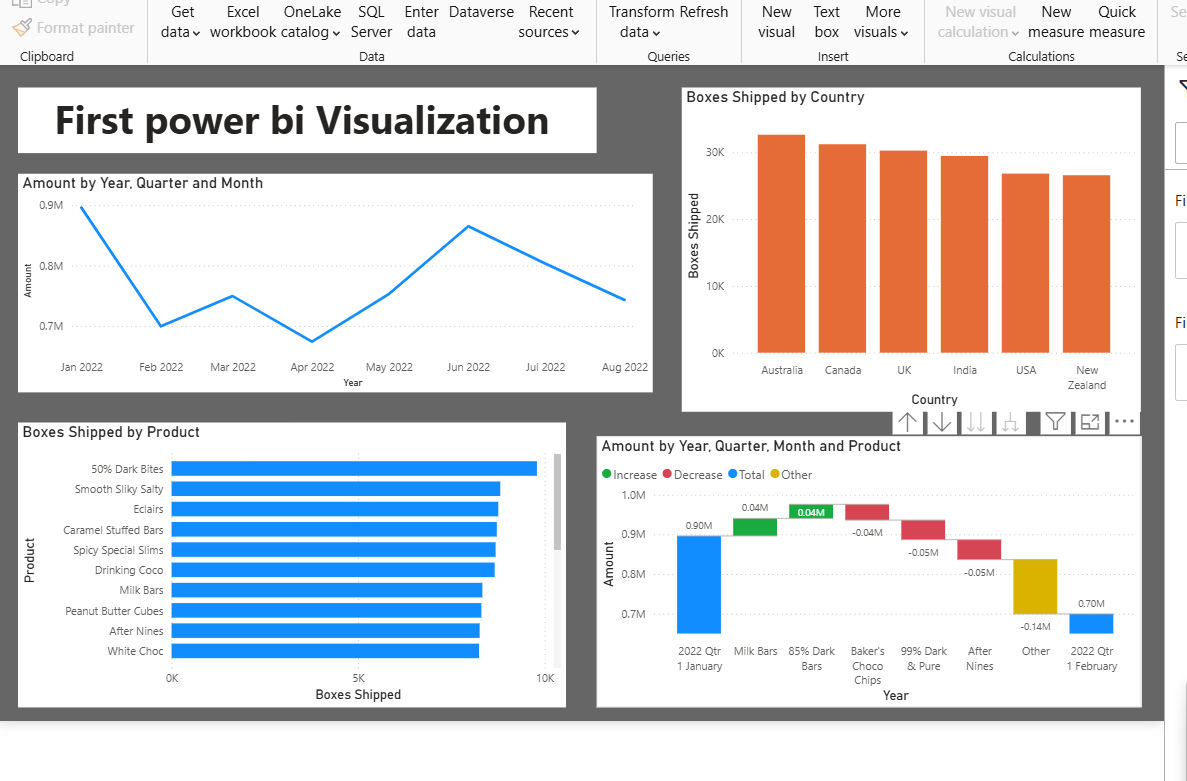

The dashboard page shown, as its layout file describes it:
{"tool":"powerbi","page":{"name":"Page 1","canvas":[1280,720],"ordinal":0},"visuals":[{"type":"columnChart","fields":{"Category":["data.Country"],"Y":["Sum(data.Boxes Shipped)"]},"box":[750.9,25.2,503.9,356.1],"z":0},{"type":"barChart","fields":{"Category":["data.Product"],"Y":["Sum(data.Boxes Shipped)"]},"box":[21.8,393.1,601.4,312.4],"z":1000},{"type":"waterfallChart","fields":{"Category":["data.Date.Variation.Date Hierarchy.Year","data.Date.Variation.Date Hierarchy.Quarter","data.Date.Variation.Date Hierarchy.Month"],"Breakdown":["data.Product"],"Y":["Sum(data.Amount)"]},"box":[656.8,408.2,598,297.3],"z":2000},{"type":"lineChart","fields":{"Category":["data.Date.Variation.Date Hierarchy.Year","data.Date.Variation.Date Hierarchy.Quarter","data.Date.Variation.Date Hierarchy.Month","data.Date.Variation.Date Hierarchy.Day"],"Y":["Sum(data.Amount)"]},"box":[21.8,119.3,697.1,240.2],"z":3000},{"type":"textbox","box":[21.8,25.2,635,72.2],"z":3001}]}

Visuals, with their boxes in screenshot pixels (x1, y1, x2, y2):
columnChart - data.Country x Sum(data.Boxes Shipped): 681 85 1141 411
barChart - data.Product x Sum(data.Boxes Shipped): 14 421 564 707
waterfallChart - data.Date.Variation.Date Hierarchy.Year x data.Date.Variation.Date Hierarchy.Quarter: 594 435 1141 707
lineChart - data.Date.Variation.Date Hierarchy.Year x data.Date.Variation.Date Hierarchy.Quarter: 14 171 651 391
textbox: 14 85 594 151
